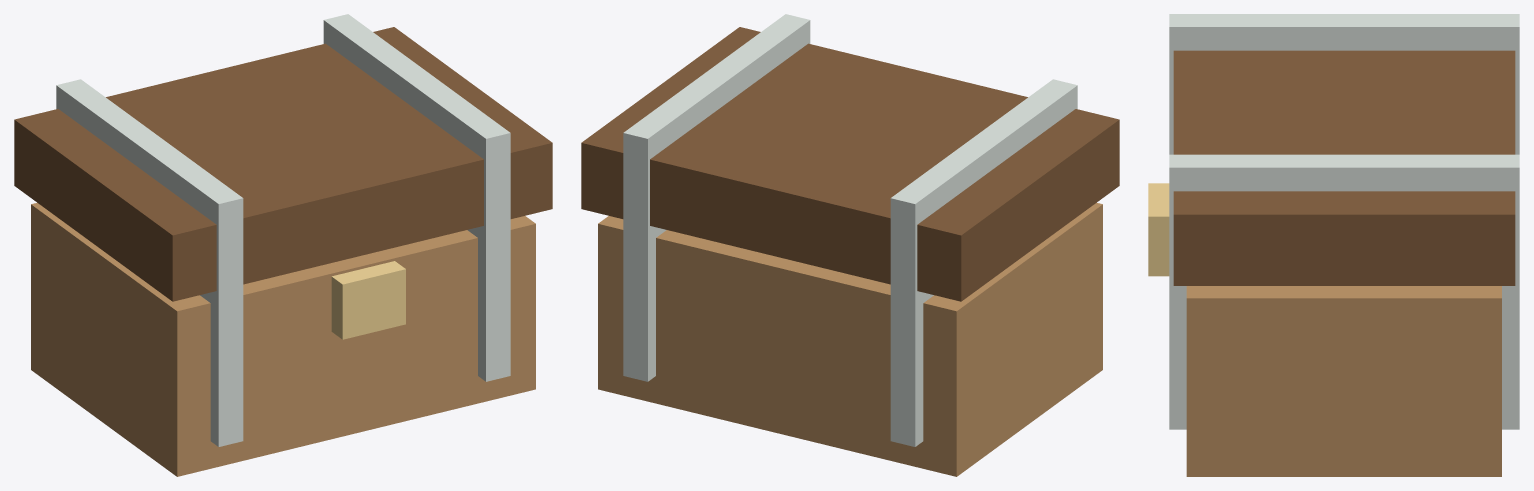
File: chest.glb
3 views of the same model, side by side, from view 1: azimuth 30°, elevation 25°; view 2: azimuth 150°, elevation 25°; view 3: azimuth 270°, elevation 25° (orthographic). The views are drawn at different scales.
Visible parts, largest first — view 1: ChestLid, ChestBase, ChestBandLeft, ChestBandRight, ChestLatch; view 2: ChestBase, ChestLid, ChestBandLeft, ChestBandRight; view 3: ChestLid, ChestBase, ChestBandRight, ChestBandLeft, ChestLatch.
Part boxes in pixels (x1,y1,x2,y2): ChestLid: (14,27,552,301); ChestBase: (31,202,535,476); ChestBandLeft: (56,79,243,446); ChestBandRight: (323,14,510,381); ChestLatch: (331,261,405,339); ChestBase: (598,202,1102,476); ChestLid: (581,27,1119,301); ChestBandLeft: (890,79,1077,446); ChestBandRight: (623,14,810,381); ChestLid: (1173,50,1515,285); ChestBase: (1186,286,1501,476); ChestBandRight: (1169,154,1519,429); ChestBandLeft: (1169,14,1519,154); ChestLatch: (1148,183,1169,276).
Bounding box in the file's own units: 1.08 × 0.735 × 0.8475.
